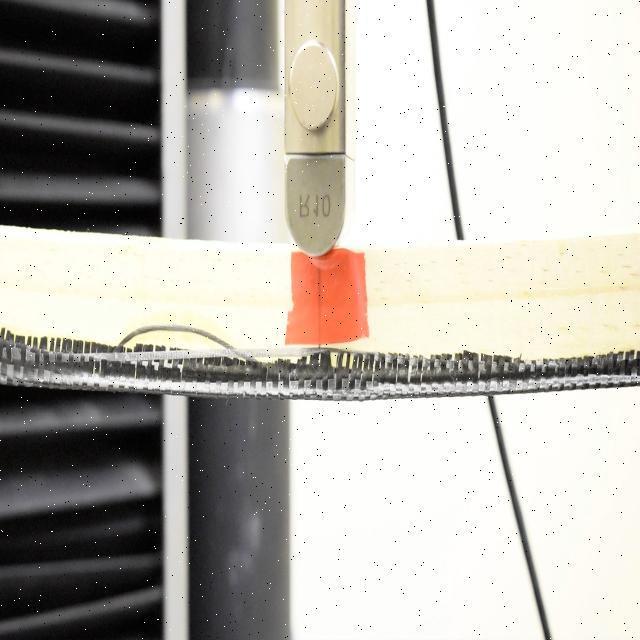wood: (0, 226, 638, 398)
